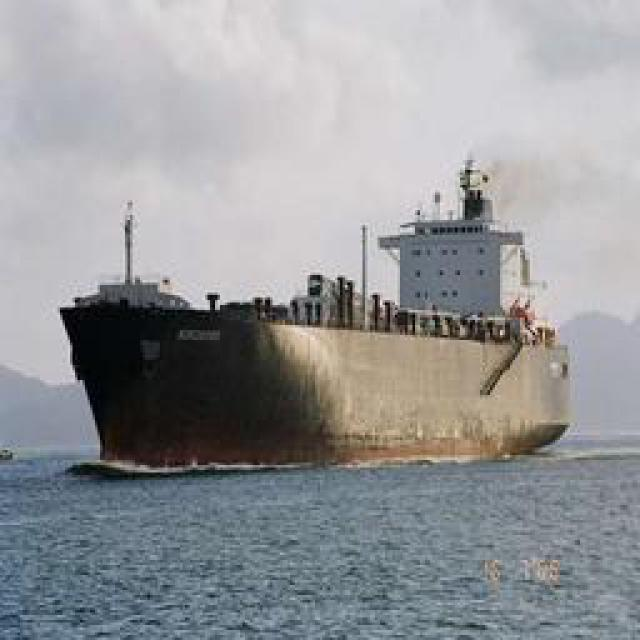Ship: (65, 154, 578, 457)
